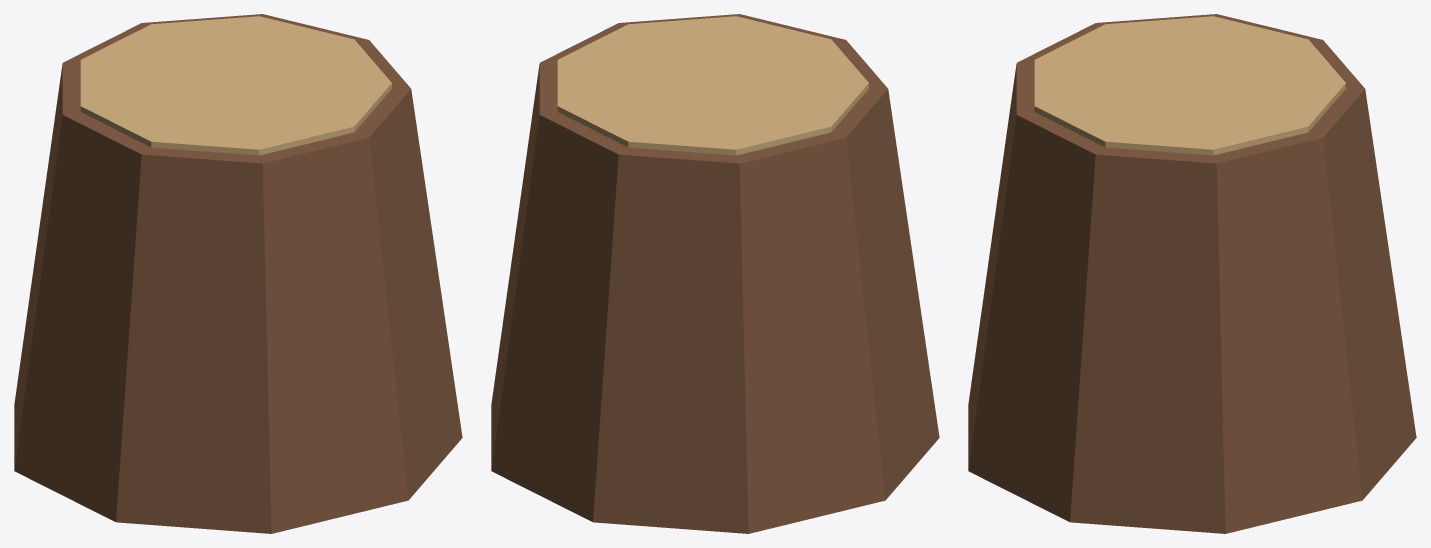
File: nature_stump.glb
3 views of the same model, side by side, from view 1: azimuth 30°, elevation 25°; view 2: azimuth 150°, elevation 25°; view 3: azimuth 270°, elevation 25° (orthographic).
Visible parts, largest first — view 1: nature_stump; view 2: nature_stump; view 3: nature_stump.
Boxes of the visible parts, box(x1,y1,x2,y2) form: nature_stump: box(14, 14, 462, 533); nature_stump: box(491, 14, 939, 533); nature_stump: box(968, 14, 1416, 533).
Size of the model in its own units: 0.7091 by 0.61 by 0.6983.
